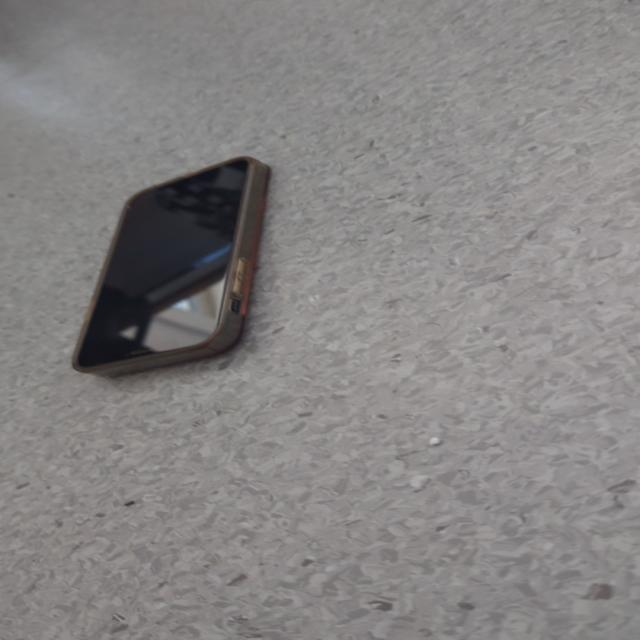phone: (70, 155, 271, 379)
